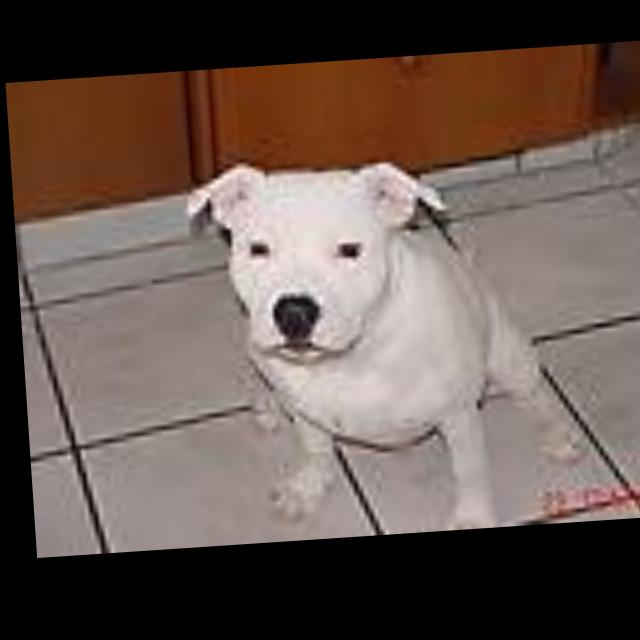staffford: (180, 147, 542, 549)
